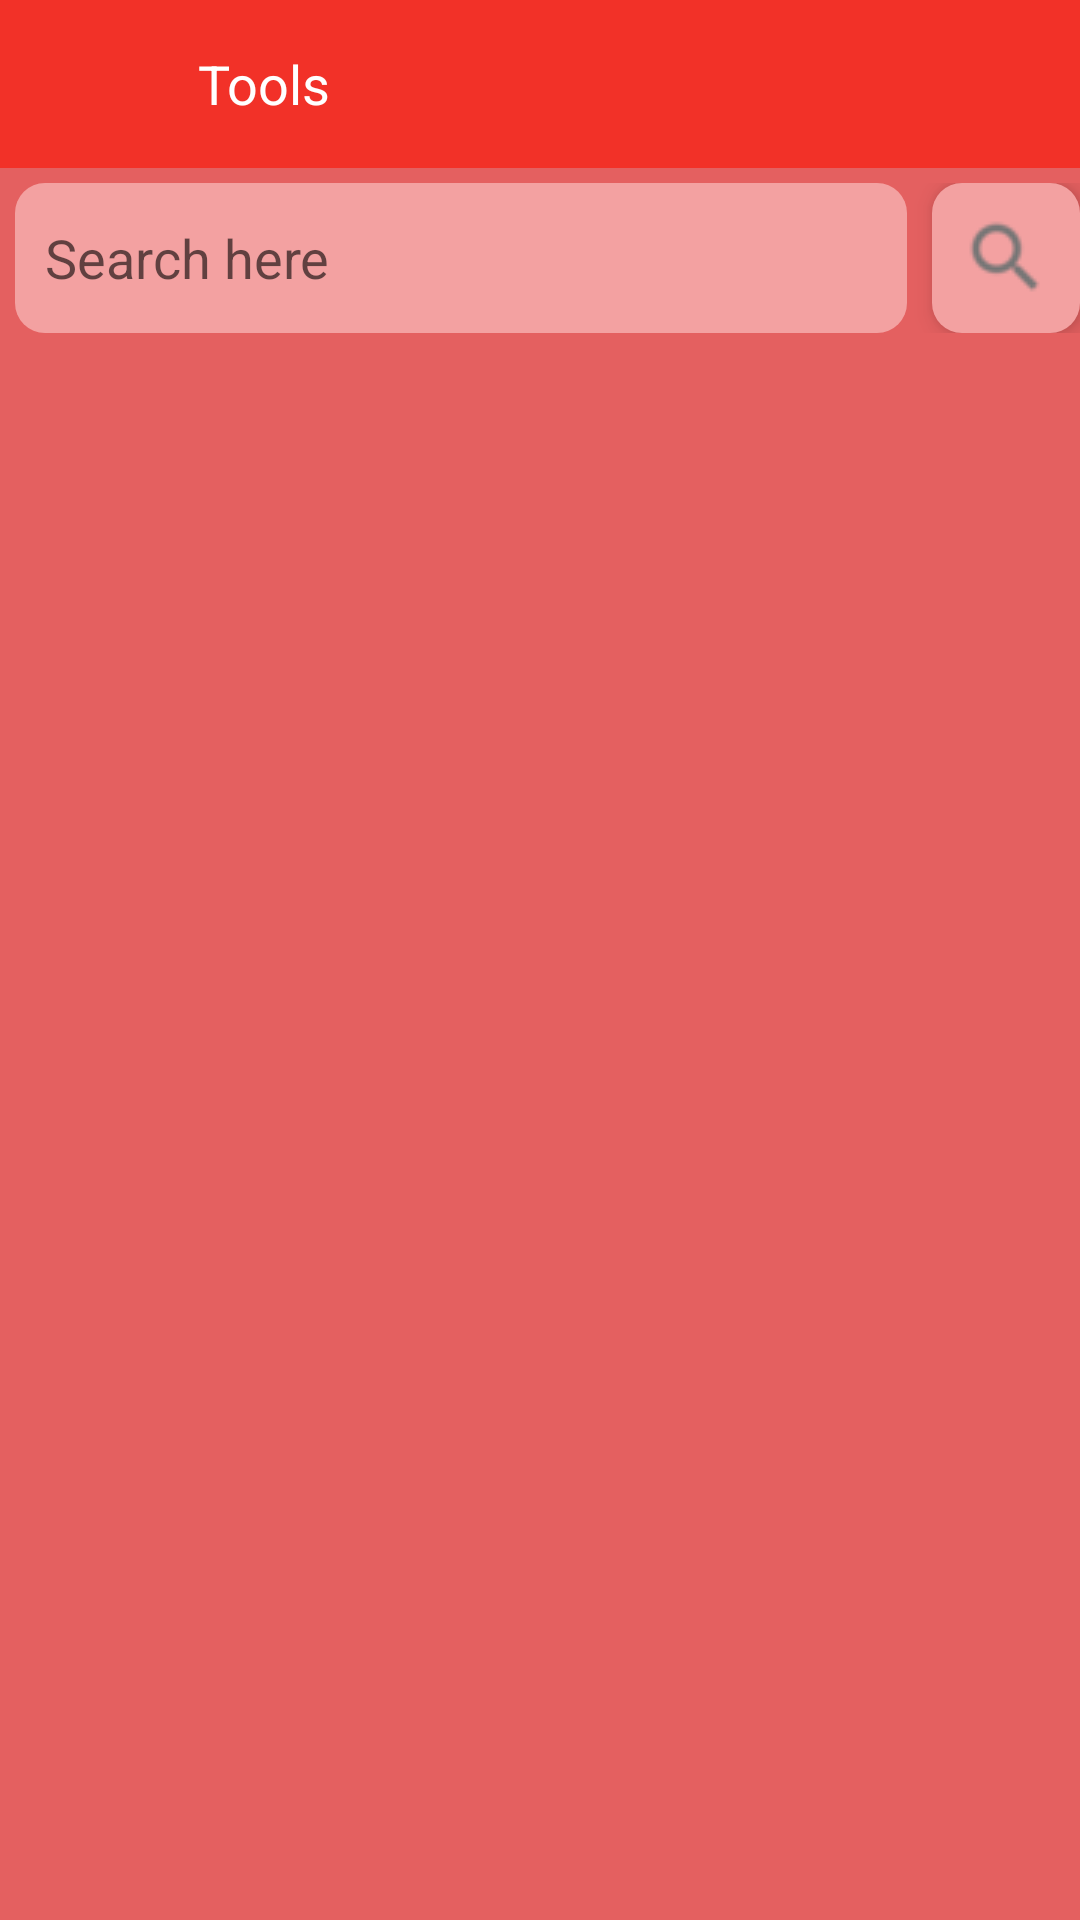

Point at icon controls on the screen. Image size 1080x1920, points as (x,y).
searchicon: (1006,258)
